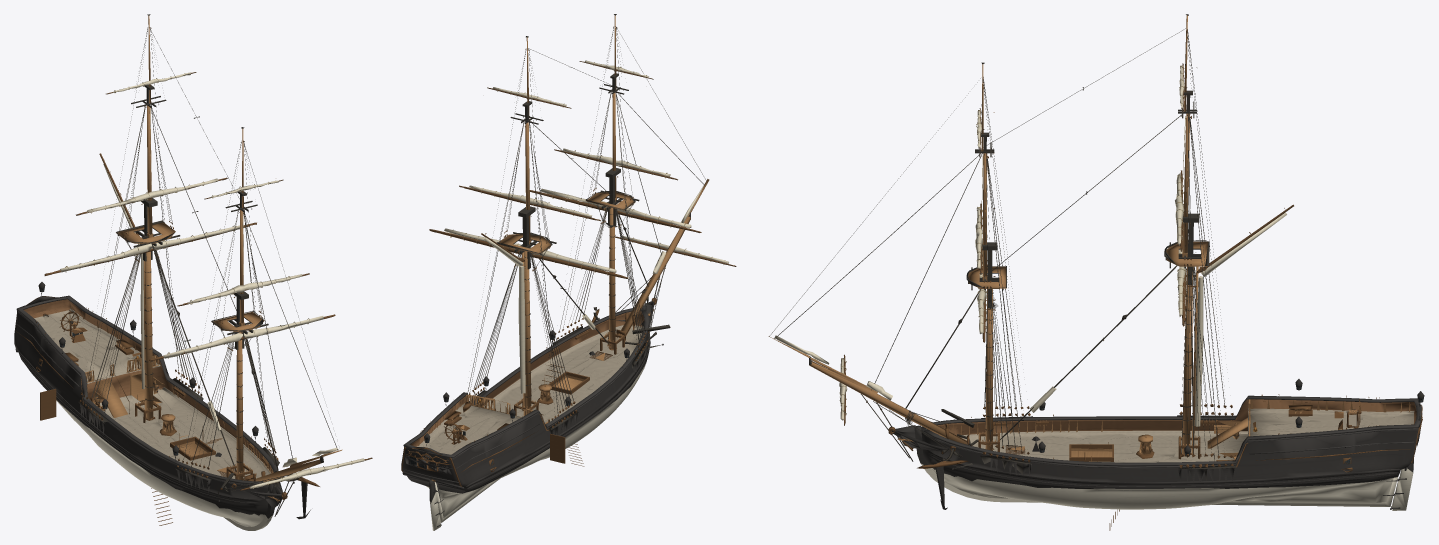
The model's file is ship_lod2.glb.
3 views of the same model, side by side, from view 1: azimuth 30°, elevation 25°; view 2: azimuth 150°, elevation 25°; view 3: azimuth 270°, elevation 25° (orthographic). The views are drawn at different scales.
Parts seen in each view (by area): view 1: lod2_hull, lod2_hull_rail, lod2_rope_stays, lod2_rope_main_shrouds, lod2_rope_backstays, lod2_spars_timber_005, lod2_rope_fore_shrouds, lod2_spars_timber_004, lod2_furled_sail_zagiel_main, lod2_furled_sail_zagiel_fore, lod2_bowsprit, lod2_furled_sail_zagiel_gaflowy (+11 smaller); view 2: lod2_hull, lod2_hull_rail, lod2_rope_backstays, lod2_rope_main_shrouds, lod2_rope_fore_shrouds, lod2_rope_stays, lod2_furled_sail_zagiel_gaflowy, lod2_bowsprit, lod2_spars_timber_005, lod2_spars_timber_004, lod2_main_yard, lod2_furled_sail_zagiel_main (+13 smaller); view 3: lod2_hull, lod2_hull_rail, lod2_rope_backstays, lod2_rope_stays, lod2_bowsprit, lod2_hull_backbone, lod2_rope_main_shrouds, lod2_furled_sail_zagiel_gaflowy, lod2_spars_timber_005, lod2_hull_mouldings, lod2_rope_fore_shrouds, lod2_spars_timber_004 (+1 smaller).
Part boxes in pixels (x1,y1,x2,y2): lod2_hull: (14,299,278,526); lod2_hull_rail: (16,295,277,484); lod2_rope_stays: (150,28,338,516); lod2_rope_main_shrouds: (91,236,198,407); lod2_rope_backstays: (85,27,268,459); lod2_spars_timber_005: (145,251,153,419); lod2_rope_fore_shrouds: (192,331,275,466); lod2_spars_timber_004: (236,332,243,480); lod2_furled_sail_zagiel_main: (60,225,243,272); lod2_furled_sail_zagiel_fore: (163,316,323,358); lod2_bowsprit: (244,449,342,481); lod2_furled_sail_zagiel_gaflowy: (103,164,144,388); lod2_hull: (401,308,650,517); lod2_hull_rail: (403,308,648,457); lod2_rope_backstays: (467,27,639,415); lod2_rope_main_shrouds: (473,247,573,409); lod2_rope_fore_shrouds: (569,204,645,342); lod2_rope_stays: (528,29,706,344); lod2_furled_sail_zagiel_gaflowy: (484,237,525,393); lod2_bowsprit: (616,179,709,341); lod2_spars_timber_005: (524,251,531,413); lod2_spars_timber_004: (609,208,615,350); lod2_main_yard: (429,229,628,278); lod2_furled_sail_zagiel_main: (444,228,616,272); lod2_hull: (921,399,1420,509); lod2_hull_rail: (924,395,1422,466); lod2_rope_backstays: (983,29,1224,455); lod2_rope_stays: (769,28,1186,461); lod2_bowsprit: (768,336,969,444); lod2_hull_backbone: (914,425,1397,506); lod2_rope_main_shrouds: (1181,266,1211,453); lod2_furled_sail_zagiel_gaflowy: (1194,212,1286,426); lod2_spars_timber_005: (1182,266,1193,456); lod2_hull_mouldings: (932,428,1415,467); lod2_rope_fore_shrouds: (984,289,1009,446); lod2_spars_timber_004: (985,289,992,450).
Bounding box in the file's own units: 16.71 × 36.1 × 41.23.
Materials: 15 (15 with a texture image).
